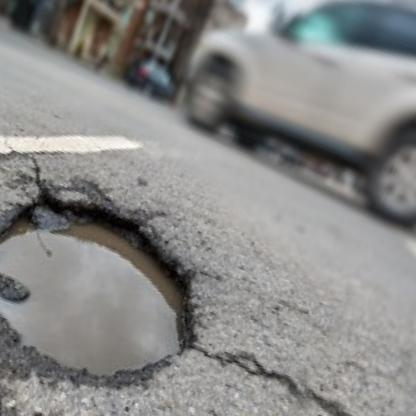pothole: (0, 163, 230, 411)
